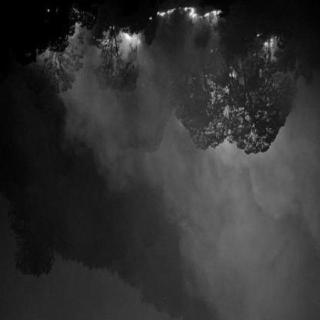Fire: (103, 26, 143, 64), (257, 36, 277, 66)
